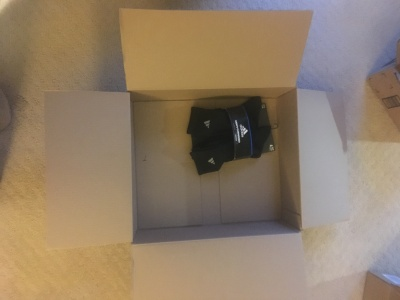innerbox: (131, 89, 300, 235)
outerbox: (52, 11, 353, 300)
product: (190, 104, 275, 166)
